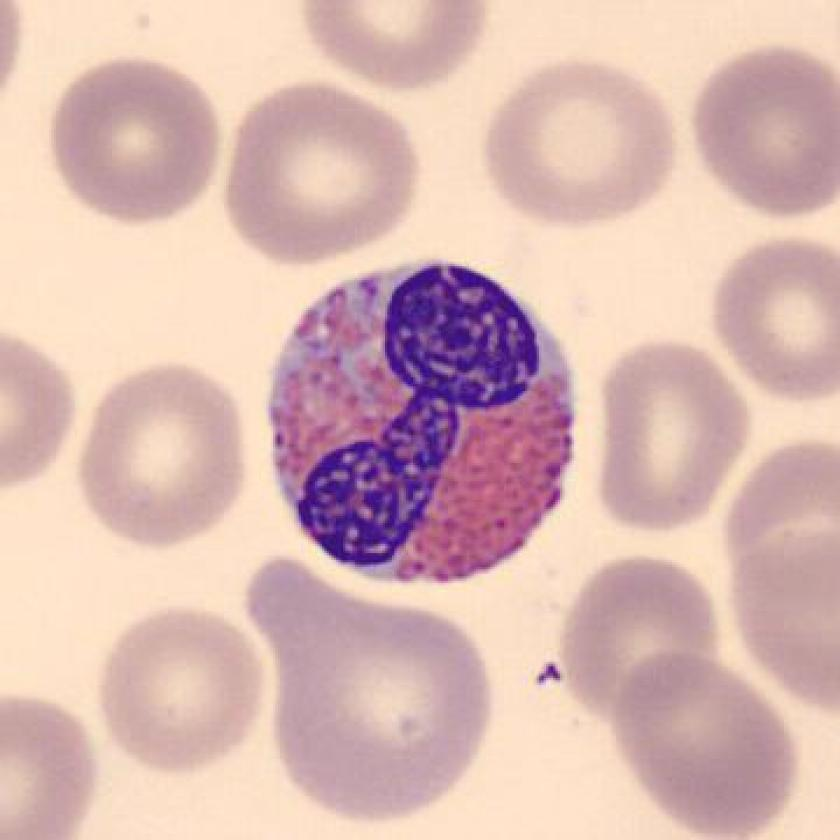eosinophil: (256, 251, 585, 603)
